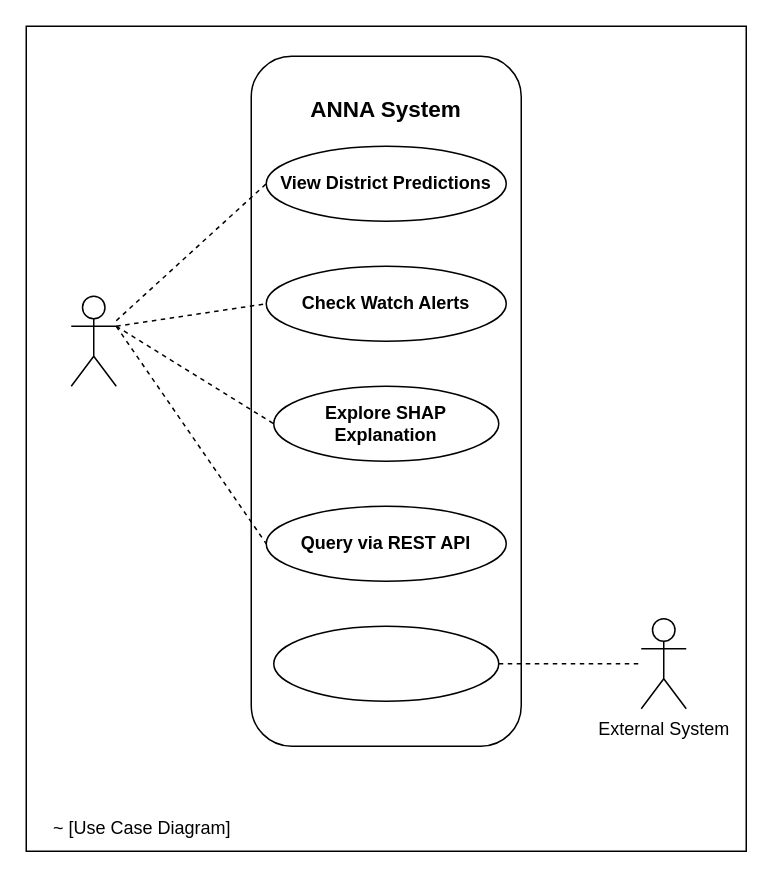
This 773x878 diagram has some shape labels left out. Each missing label, with the box of its shape:
District Officer: (70, 295, 116, 386)
View Kharif Risk Status: (272, 625, 499, 701)
